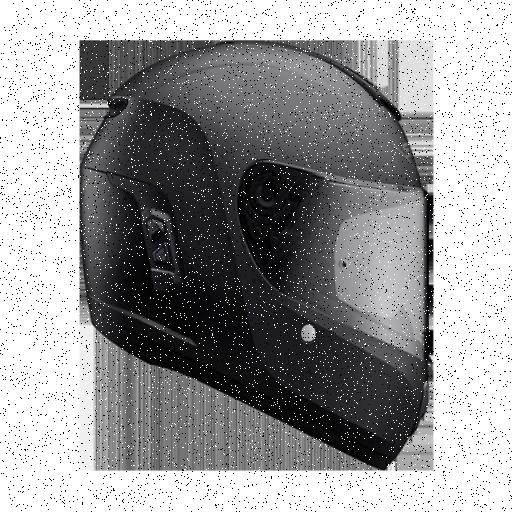Helmet: (98, 47, 424, 463)
